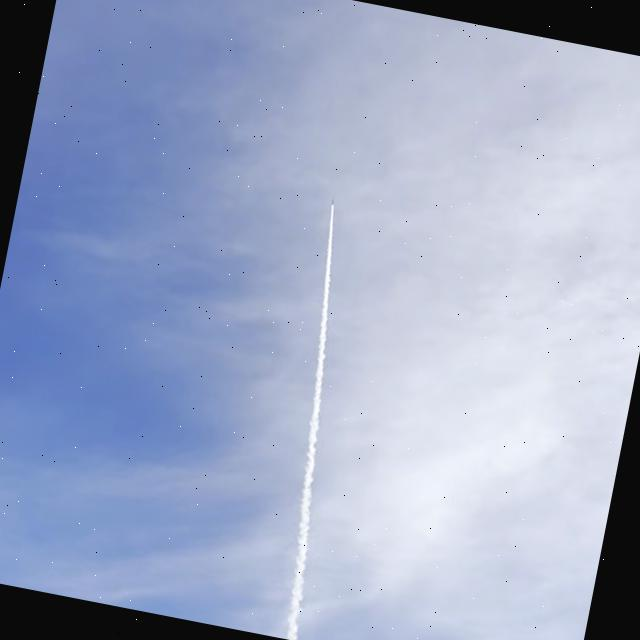smoke_trail_with_rocket: (284, 202, 333, 640)
